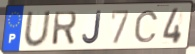4: (161, 6, 183, 46)
7: (109, 8, 130, 46)
C: (133, 9, 160, 44)
J: (81, 9, 103, 46)
R: (51, 10, 79, 47)
U: (23, 9, 52, 48)
